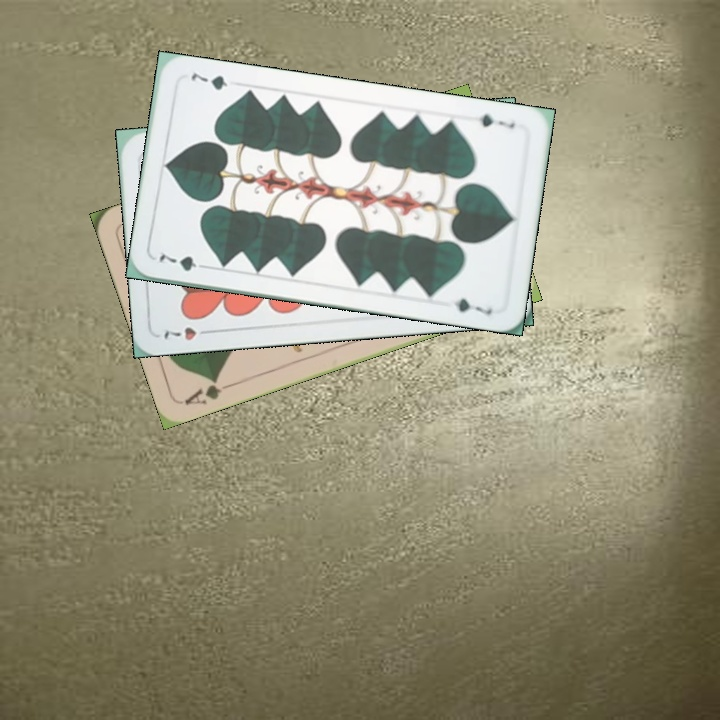G7: (155, 250, 212, 274), (475, 110, 517, 132)
GA: (180, 374, 237, 408)
H7: (159, 323, 216, 343)
